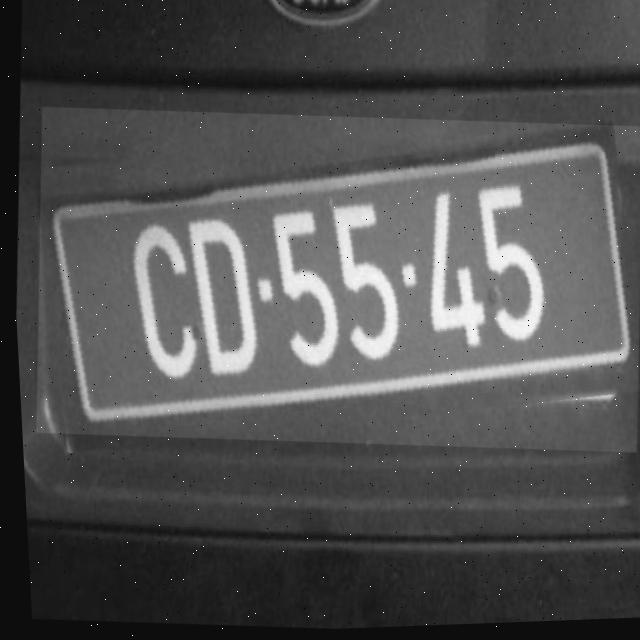LicensePlate: (18, 89, 640, 474)
